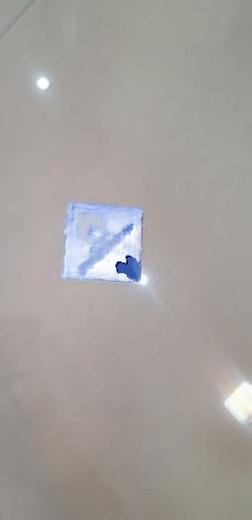dangerous-when-wet: (63, 205, 144, 283)
